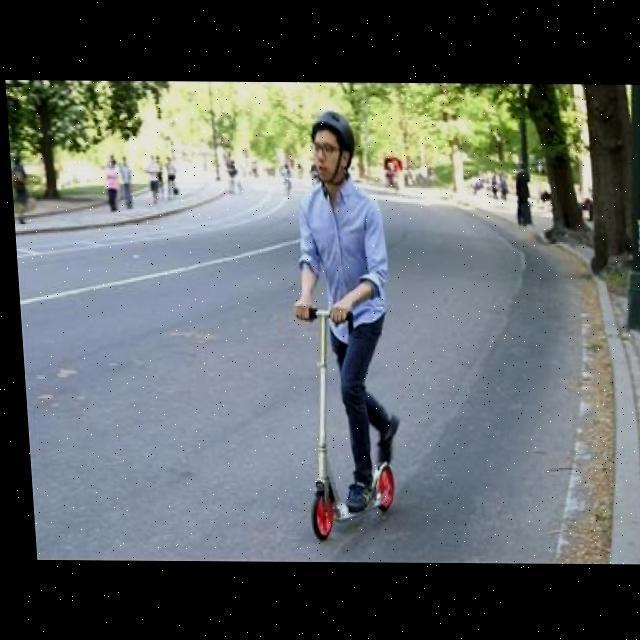Helmet: (302, 103, 360, 185)
